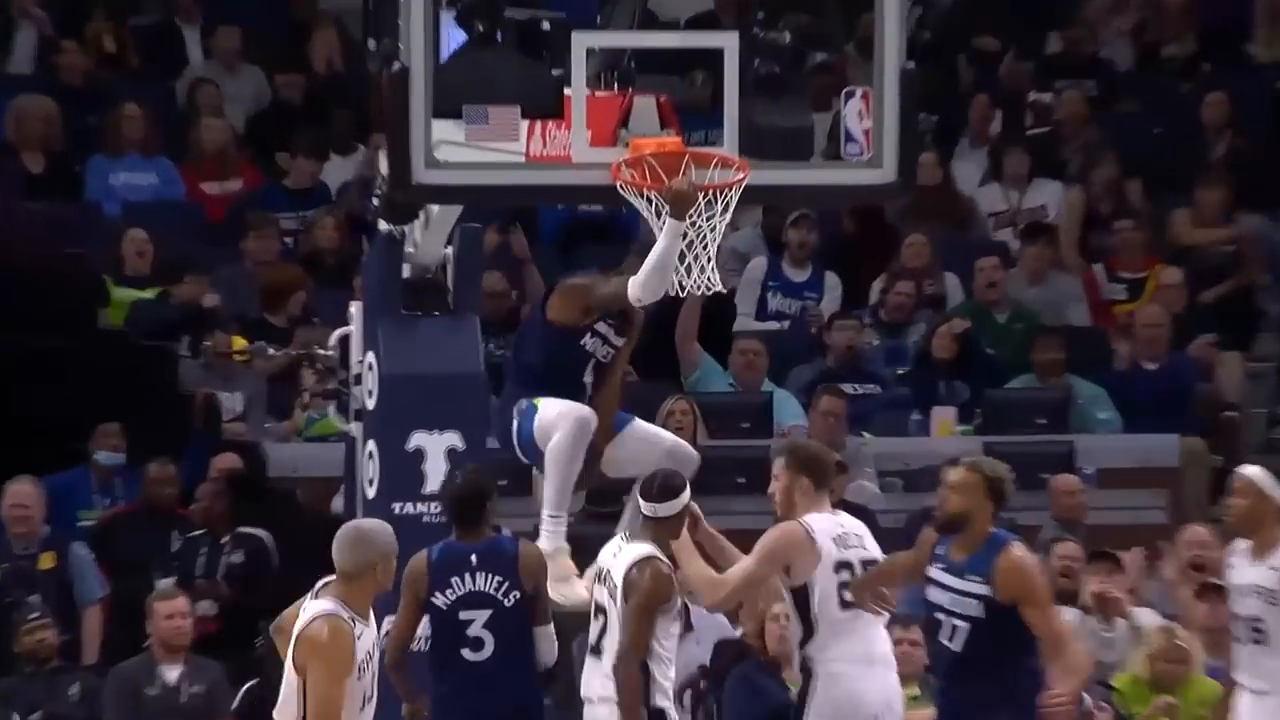net: (609, 145, 757, 299)
